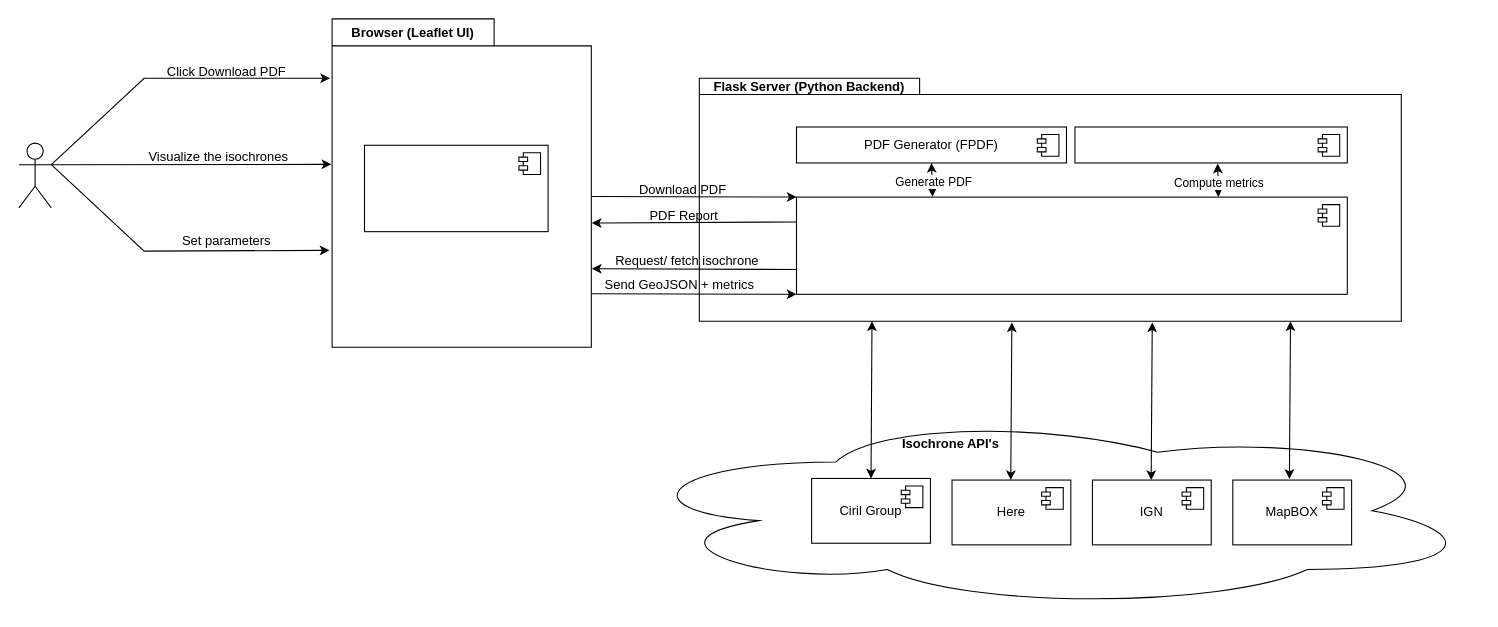
Image size: 1498x627. Some labels were removed from this diagram. The centre of each missing label's shape, as x and y in pixels:
Actor: (34,175)
Flask App: (1071,245)
Geo Analysis (GeoPandas/Shapely): (1210,144)
Interactive Map + Form: (455,188)
